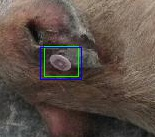text: (44, 46, 78, 76)
